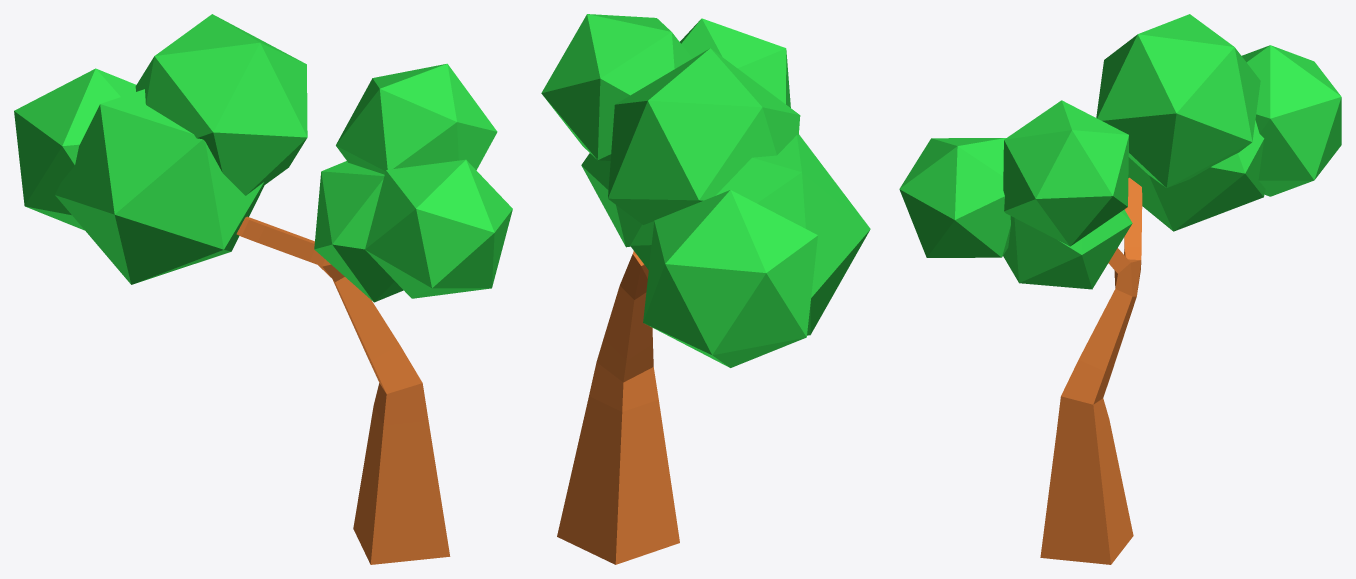
File: pohon1.fbx
3 renders of one model, left to right at view 1: azimuth 30°, elevation 25°; view 2: azimuth 150°, elevation 25°; view 3: azimuth 270°, elevation 25°, orthographic. The views are drawn at different scales.
Visible parts, largest first — view 1: Icosphere.004, Icosphere.001, Cube.022, Icosphere.003, Icosphere.002, Icosphere, Icosphere.005; view 2: Icosphere, Cube.022, Icosphere.001, Icosphere.002, Icosphere.004, Icosphere.003, Icosphere.005; view 3: Icosphere.001, Cube.022, Icosphere.002, Icosphere.003, Icosphere, Icosphere.004, Icosphere.005.
Boxes of the visible parts, x1=… form: Icosphere.004: x1=55, y1=89, x2=264, y2=284; Icosphere.001: x1=135, y1=14, x2=307, y2=195; Cube.022: x1=236, y1=216, x2=450, y2=564; Icosphere.003: x1=365, y1=159, x2=512, y2=298; Icosphere.002: x1=336, y1=63, x2=497, y2=174; Icosphere: x1=14, y1=68, x2=136, y2=230; Icosphere.005: x1=314, y1=161, x2=403, y2=302; Icosphere: x1=643, y1=190, x2=817, y2=367; Cube.022: x1=557, y1=251, x2=679, y2=564; Icosphere.001: x1=608, y1=48, x2=800, y2=224; Icosphere.002: x1=541, y1=14, x2=692, y2=160; Icosphere.004: x1=630, y1=134, x2=870, y2=335; Icosphere.003: x1=680, y1=18, x2=790, y2=107; Icosphere.005: x1=581, y1=153, x2=641, y2=247; Icosphere.001: x1=1096, y1=14, x2=1260, y2=187; Cube.022: x1=1040, y1=177, x2=1142, y2=564; Icosphere.002: x1=1003, y1=100, x2=1128, y2=246; Icosphere.003: x1=899, y1=138, x2=1010, y2=257; Icosphere: x1=1242, y1=45, x2=1341, y2=196; Icosphere.004: x1=1128, y1=120, x2=1265, y2=231; Icosphere.005: x1=1003, y1=209, x2=1132, y2=289.
Size of the model in its own units: 278 by 393 by 340.
